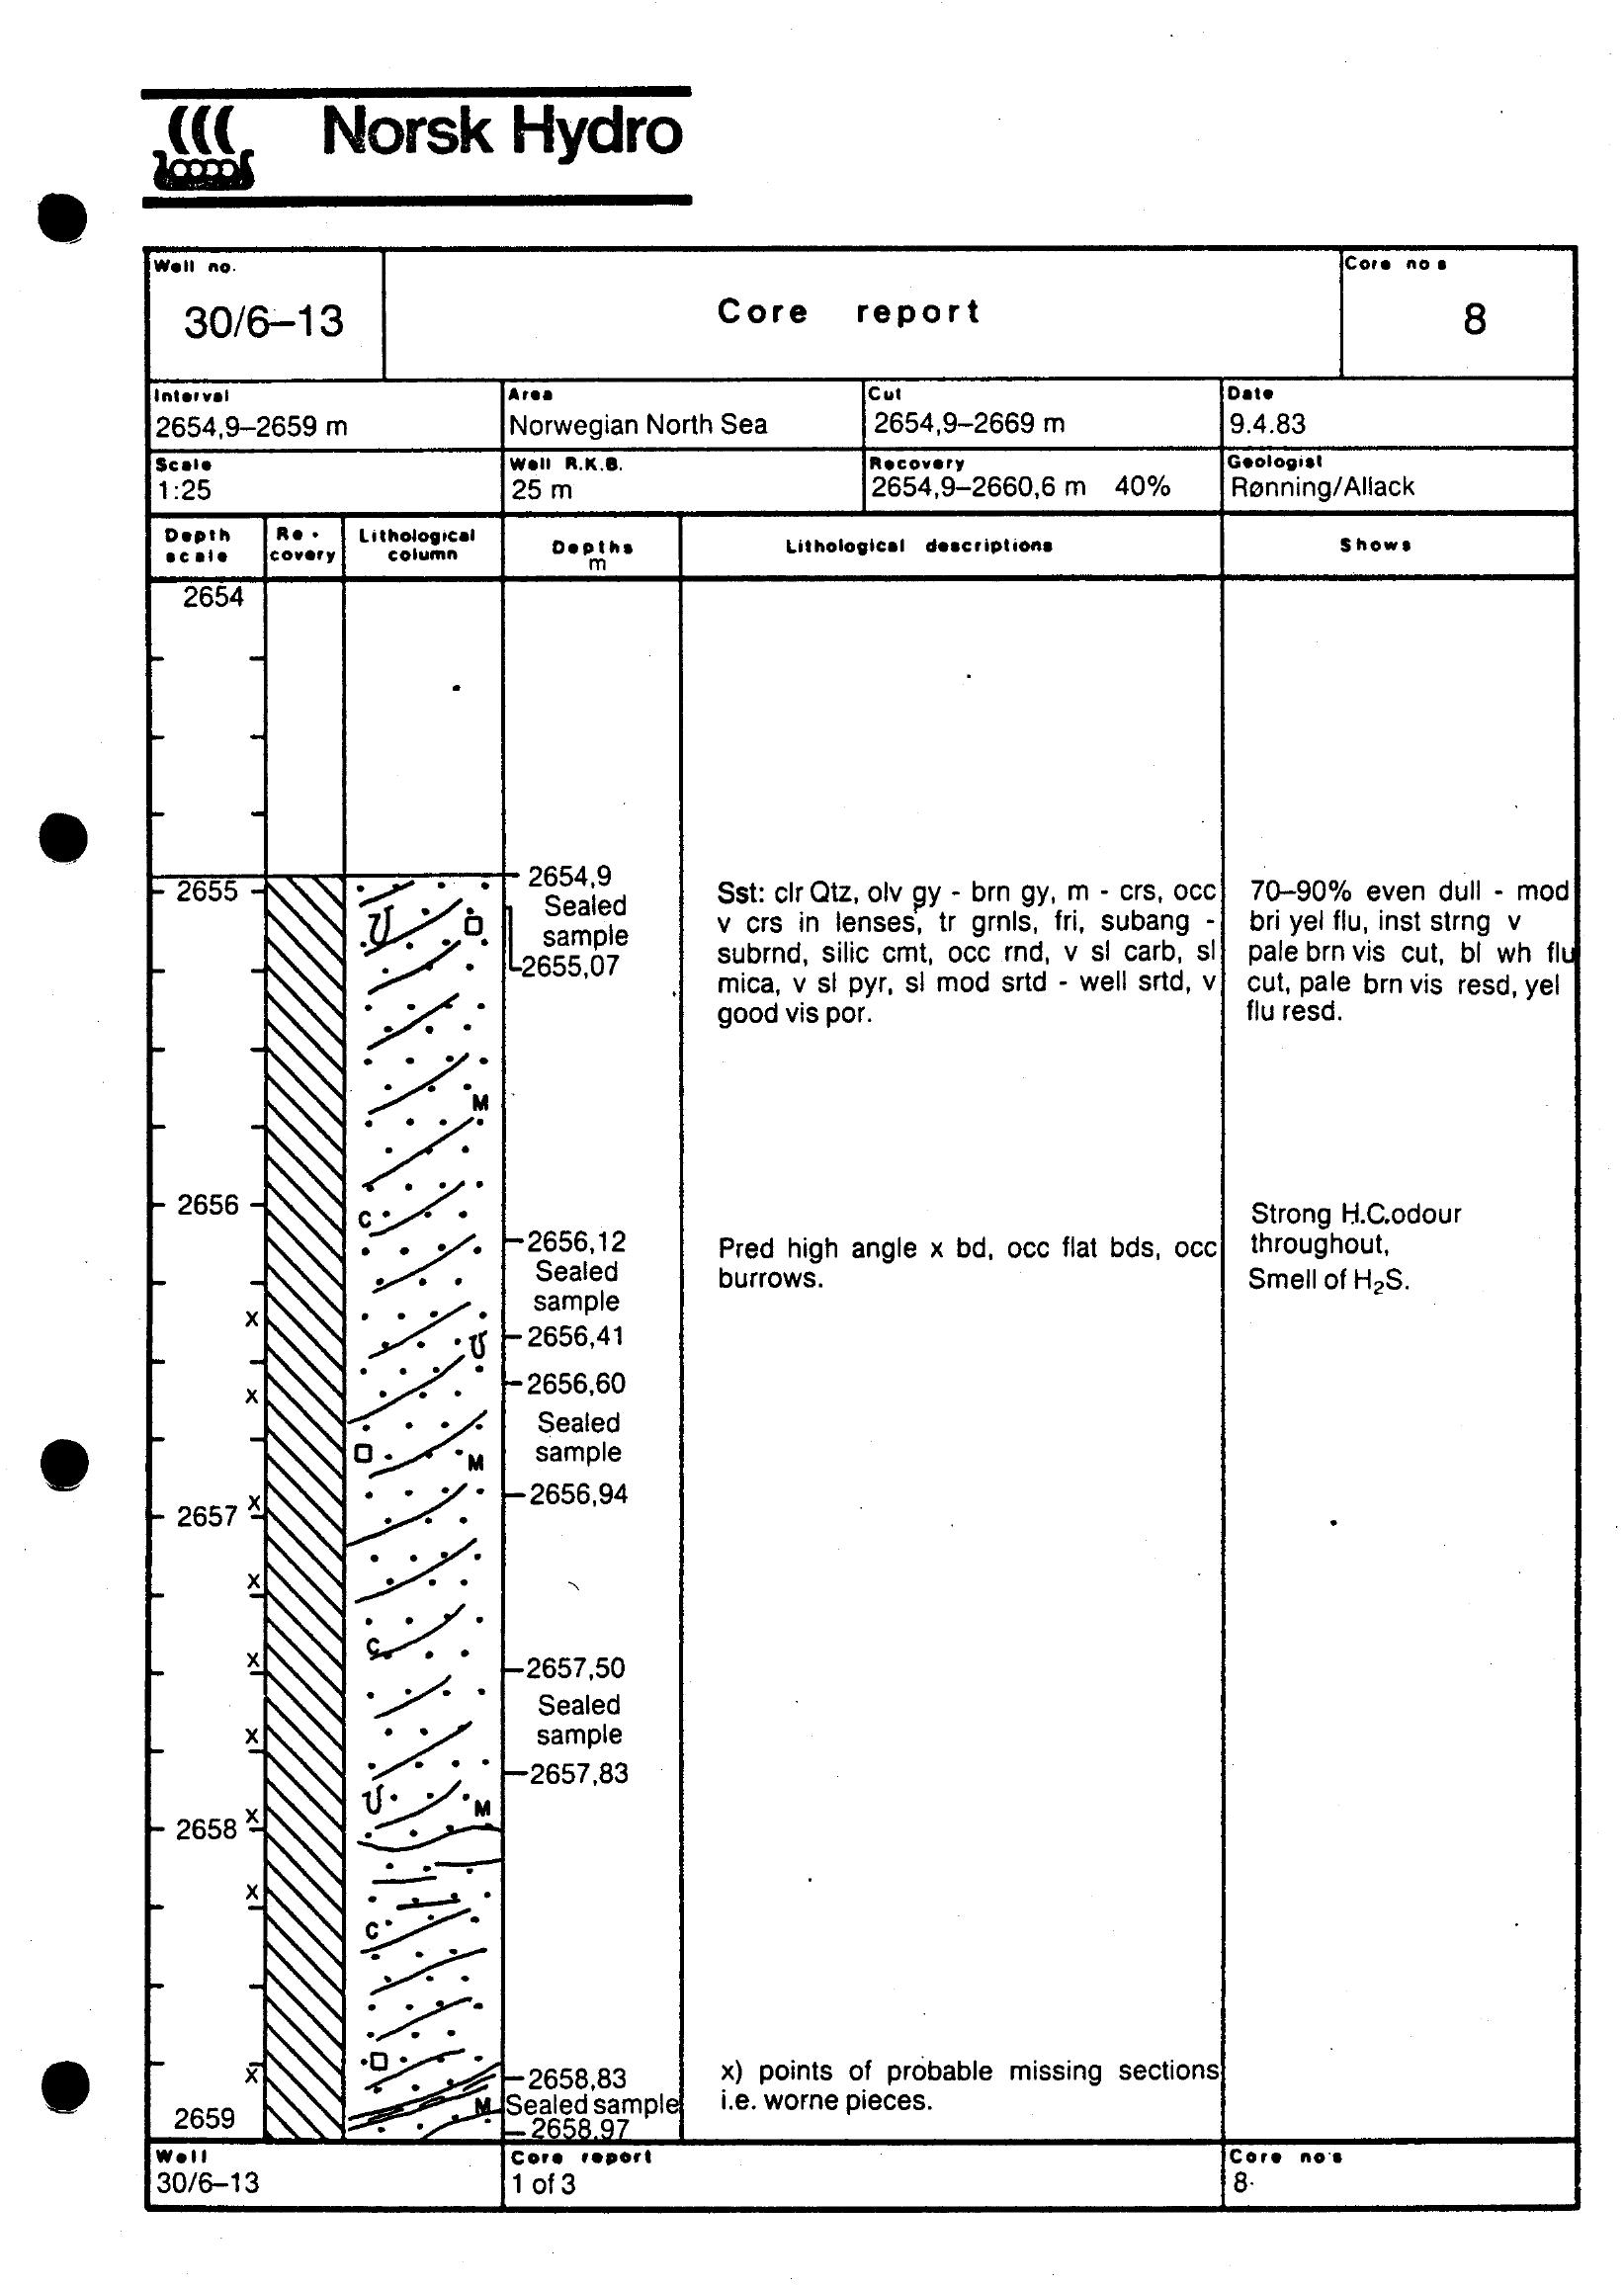graph: (123, 227, 1624, 2234)
undefined: (120, 56, 708, 223)
